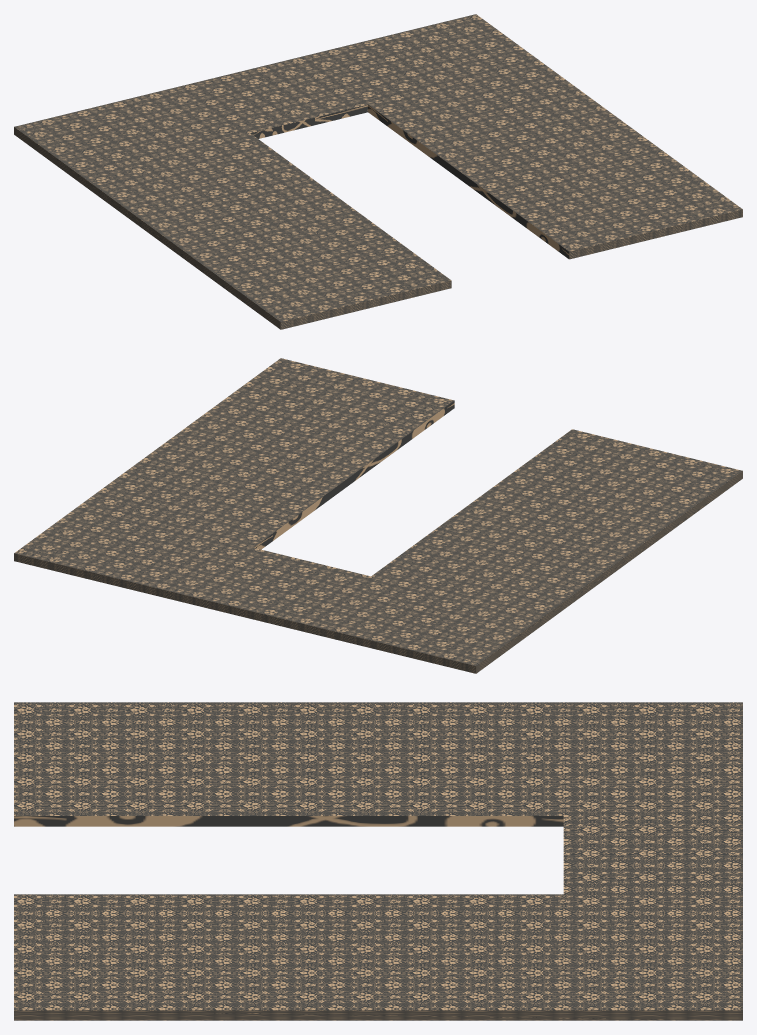
The model's file is acvt0_oda_duvar1.fbx.
3 renders of one model, top to bottom at view 1: azimuth 30°, elevation 25°; view 2: azimuth 150°, elevation 25°; view 3: azimuth 270°, elevation 25°, orthographic. The views are drawn at different scales.
Visible parts, largest first — view 1: Cube.002; view 2: Cube.002; view 3: Cube.002.
Boxes of the visible parts, bbox=[...] form: Cube.002: bbox=[14, 14, 742, 329]; Cube.002: bbox=[14, 358, 742, 673]; Cube.002: bbox=[14, 702, 742, 1020].
Bounding box in the file's own units: 1000 × 16 × 1000.
